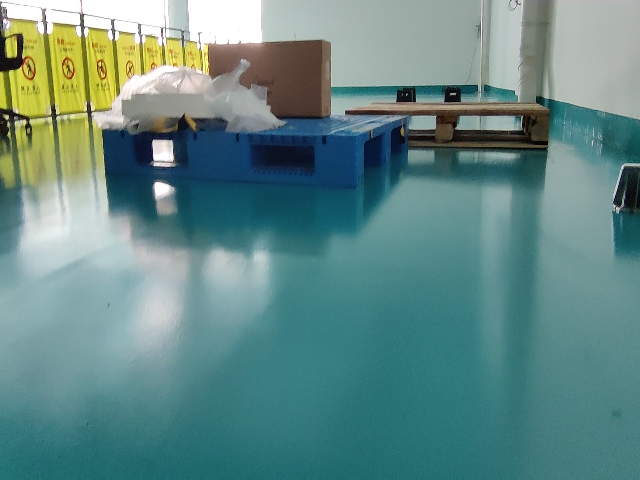block: (312, 132, 364, 189), (189, 132, 249, 175), (103, 129, 136, 176), (383, 123, 392, 161)
front: (346, 116, 411, 190)
hole pallet: (364, 135, 385, 184), (389, 123, 405, 161)
